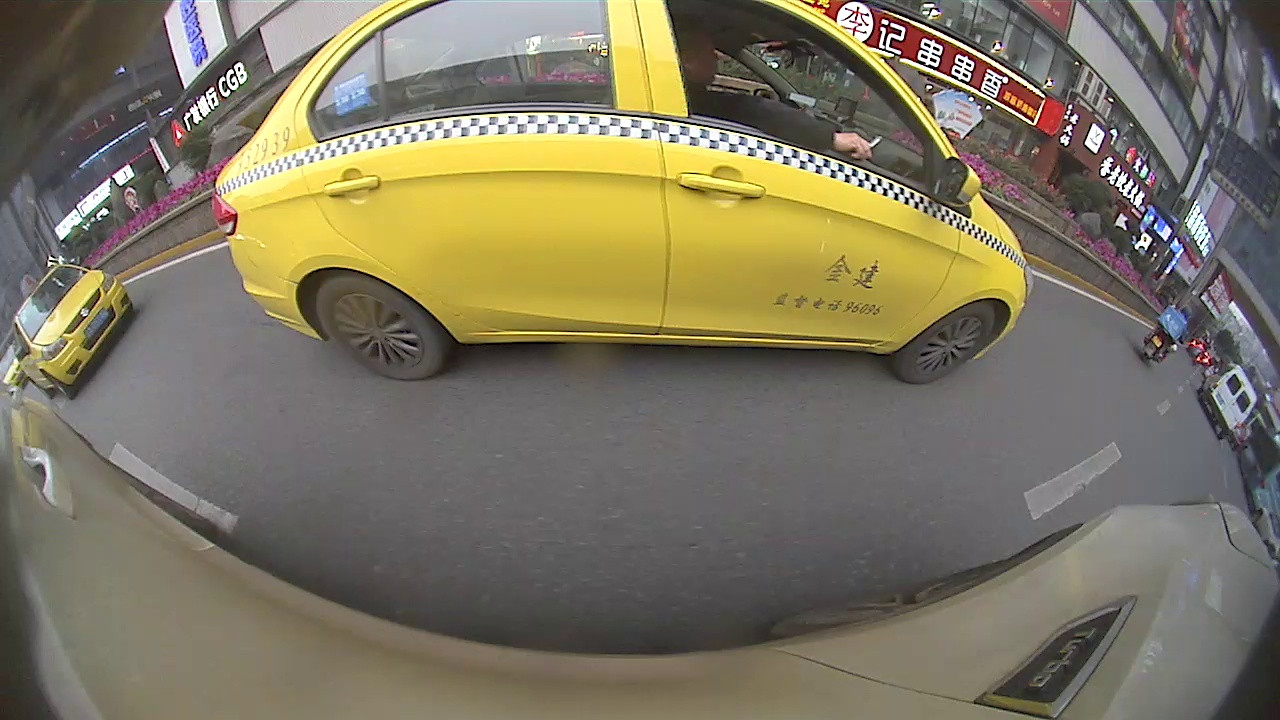car: (213, 1, 1036, 387), (10, 263, 136, 399), (1198, 362, 1260, 441)
front: (899, 305, 1008, 387), (43, 371, 72, 402)
rear: (310, 276, 441, 384)
rider: (1138, 303, 1192, 366)
